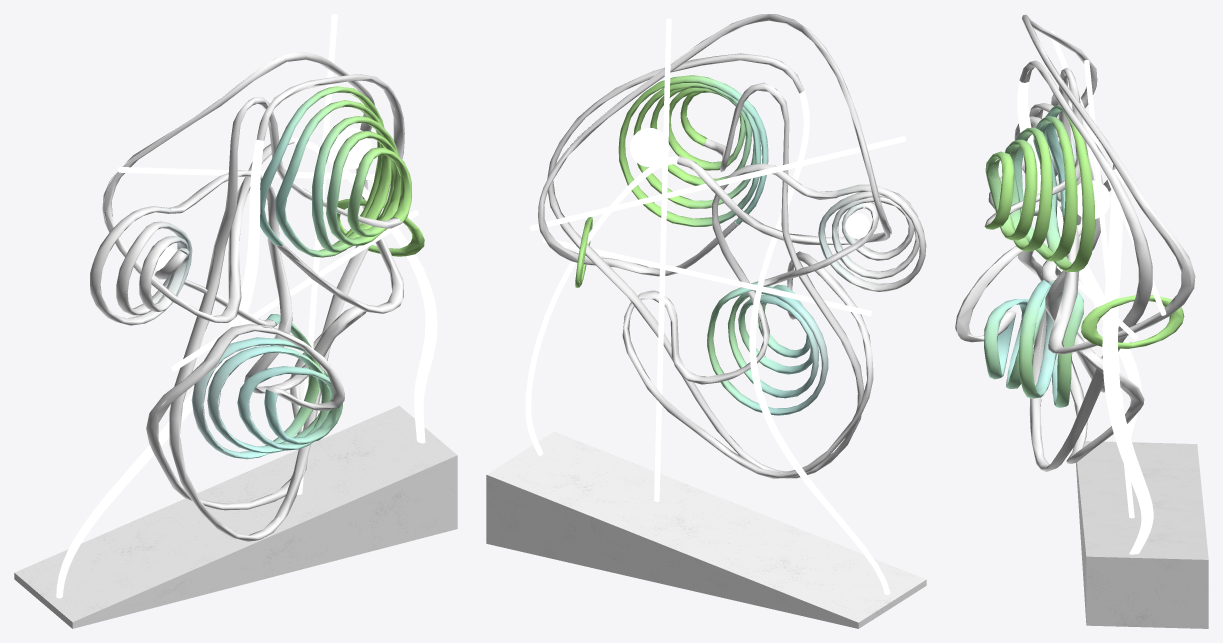
The model's file is SCREAMER-WHT-v51.glb.
The picture shows the model from 3 angles, left to right: view 1: azimuth 30°, elevation 25°; view 2: azimuth 150°, elevation 25°; view 3: azimuth 270°, elevation 25°; orthographic projection. The views are drawn at different scales.
Visible parts, largest first — view 1: Layer 05, GOVDE, HOPARLER.001, AYAK.001; view 2: Layer 05, GOVDE, HOPARLER.001, AYAK.001; view 3: Layer 05, HOPARLER.001, GOVDE, AYAK.001.
Part boxes in pixels (x1,y1,x2,y2): Layer 05: (14, 405, 457, 628); GOVDE: (102, 52, 404, 541); HOPARLER.001: (90, 86, 424, 459); AYAK.001: (56, 14, 437, 598); Layer 05: (486, 431, 926, 628); GOVDE: (538, 14, 891, 478); HOPARLER.001: (575, 75, 926, 415); AYAK.001: (525, 18, 906, 594); Layer 05: (1076, 441, 1208, 628); HOPARLER.001: (984, 94, 1184, 407); GOVDE: (955, 14, 1195, 471); AYAK.001: (1017, 31, 1166, 554).
Bounding box in the file's own units: 0.776 × 1.02 × 0.457.
4 materials, 2 textured.
